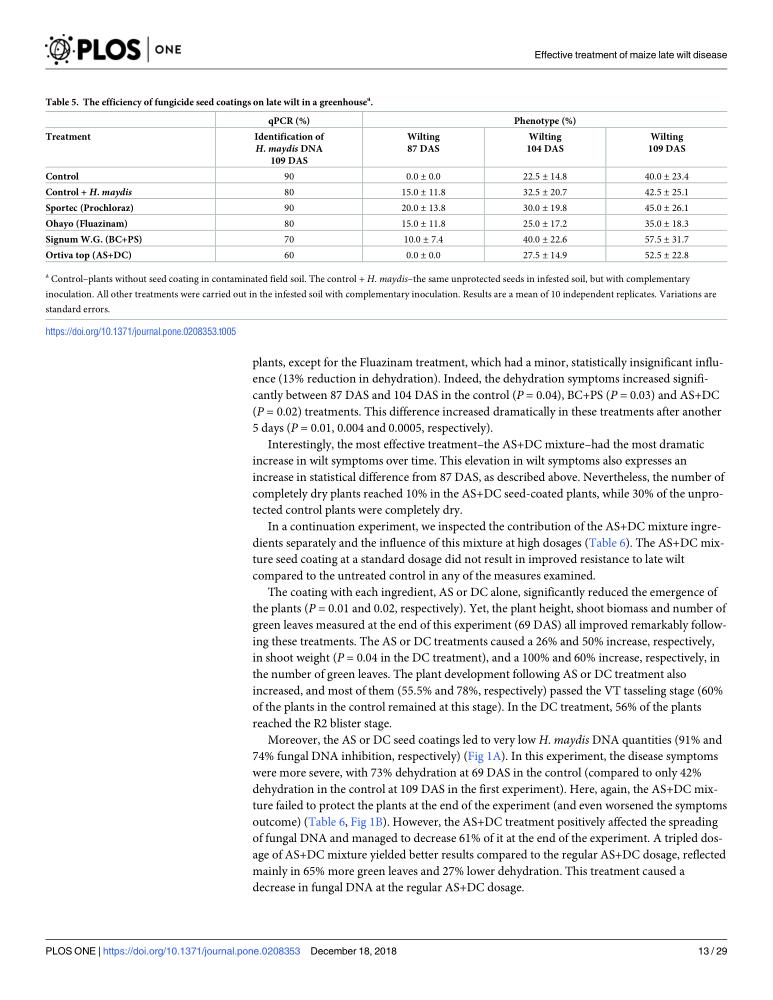table: (45, 116, 688, 261)
